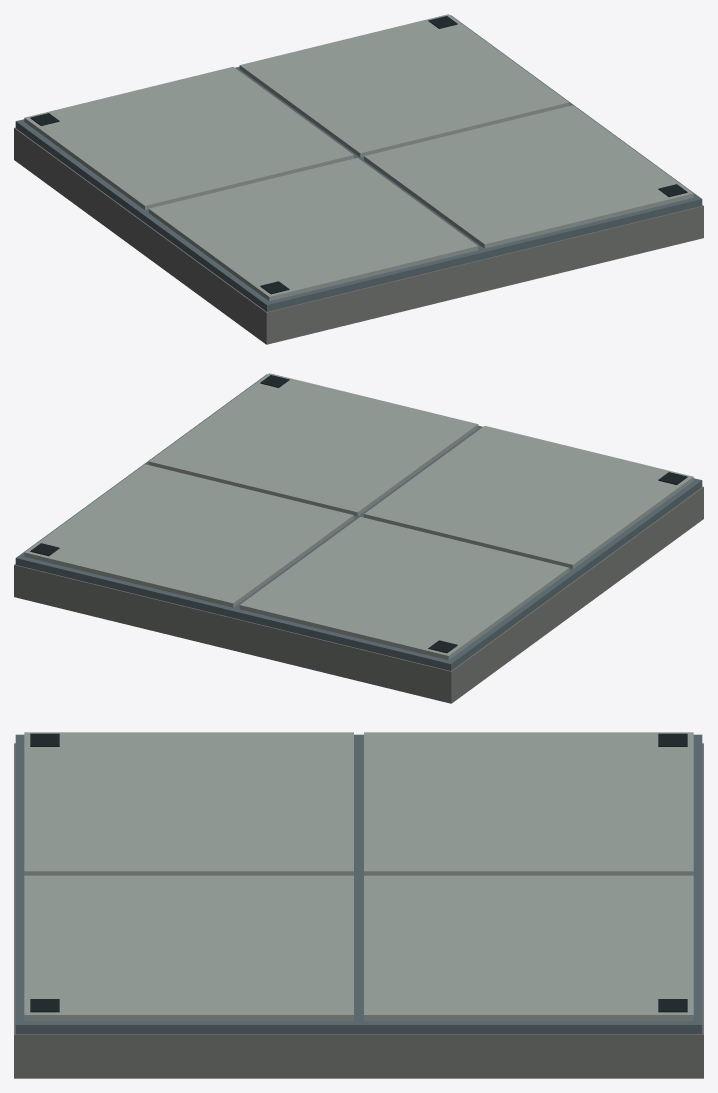
The model's file is foundation_flat_d0.glb.
3 views of the same model, one above another, from view 1: azimuth 30°, elevation 25°; view 2: azimuth 150°, elevation 25°; view 3: azimuth 270°, elevation 25° (orthographic). The views are drawn at different scales.
Parts seen in each view (by area): view 1: GAME_MESH_STATIC.006; view 2: GAME_MESH_STATIC.006; view 3: GAME_MESH_STATIC.006.
Part boxes in pixels (bbox=[...]): GAME_MESH_STATIC.006: bbox=[14, 14, 703, 344]; GAME_MESH_STATIC.006: bbox=[14, 373, 703, 703]; GAME_MESH_STATIC.006: bbox=[14, 732, 703, 1078].
Bounding box in the file's own units: 4 × 0.387 × 4.
